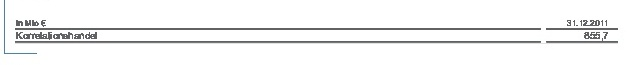table: (0, 0, 632, 65)
